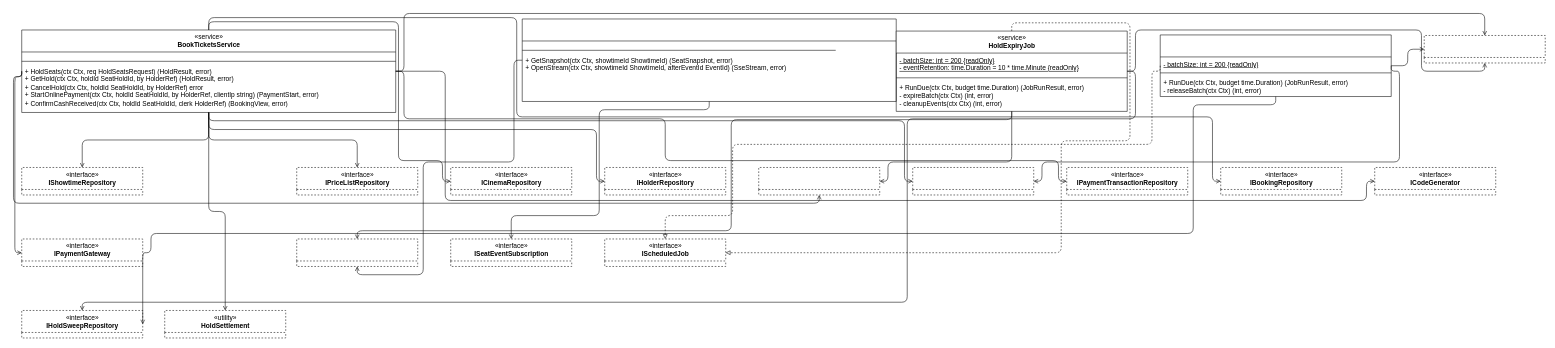
Some shapes in this 1555 by 348 pixel diagram are drawn without their labels. Here are the shapes that lost their labels. From the top down, the box of each, then its label:
(522, 18, 896, 101): «service» SeatMapService
(1160, 34, 1391, 97): «service» SeatReleaseJob
(1424, 35, 1545, 63): «interface» IUnitOfWork
(758, 167, 880, 195): «interface» ISeatHoldRepository
(912, 167, 1034, 195): «interface» ISeatStatusRepository
(296, 238, 418, 266): «interface» ISeatEventStore
